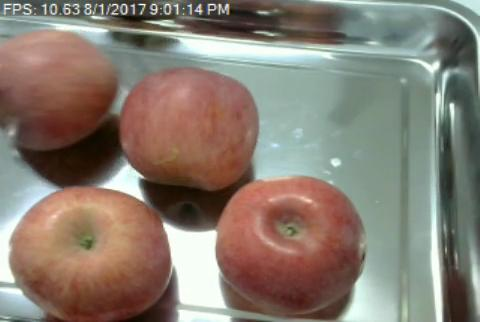apple: (8, 186, 172, 319), (214, 178, 367, 314), (118, 68, 261, 189), (0, 29, 117, 150)
